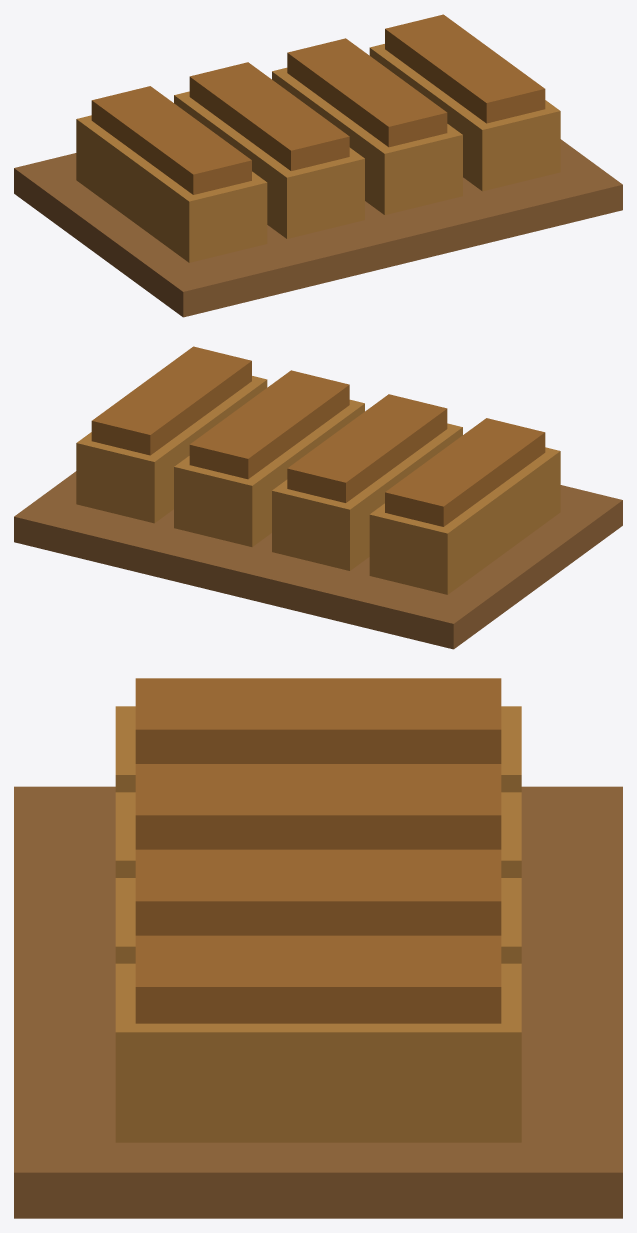
The model's file is cp-tray-bread.glb.
3 renders of one model, top to bottom at view 1: azimuth 30°, elevation 25°; view 2: azimuth 150°, elevation 25°; view 3: azimuth 270°, elevation 25°, orthographic. The views are drawn at different scales.
Parts seen in each view (by area): view 1: box-prop; view 2: box-prop; view 3: box-prop.
Part boxes in pixels (x1=…): box-prop: x1=14, y1=14, x2=622, y2=317; box-prop: x1=14, y1=346, x2=622, y2=649; box-prop: x1=14, y1=678, x2=622, y2=1218.
Bounding box in the file's own units: 0.9 × 0.21 × 0.6.
